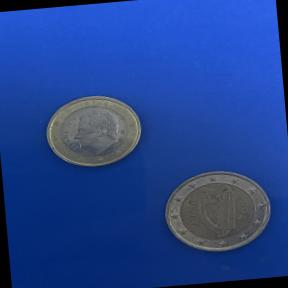1 Euro-B: (36, 88, 150, 177)
2 Euro-B: (154, 162, 280, 264)
